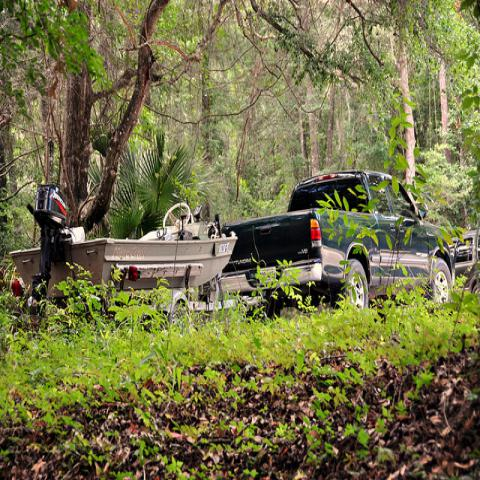truck: (221, 169, 457, 324)
